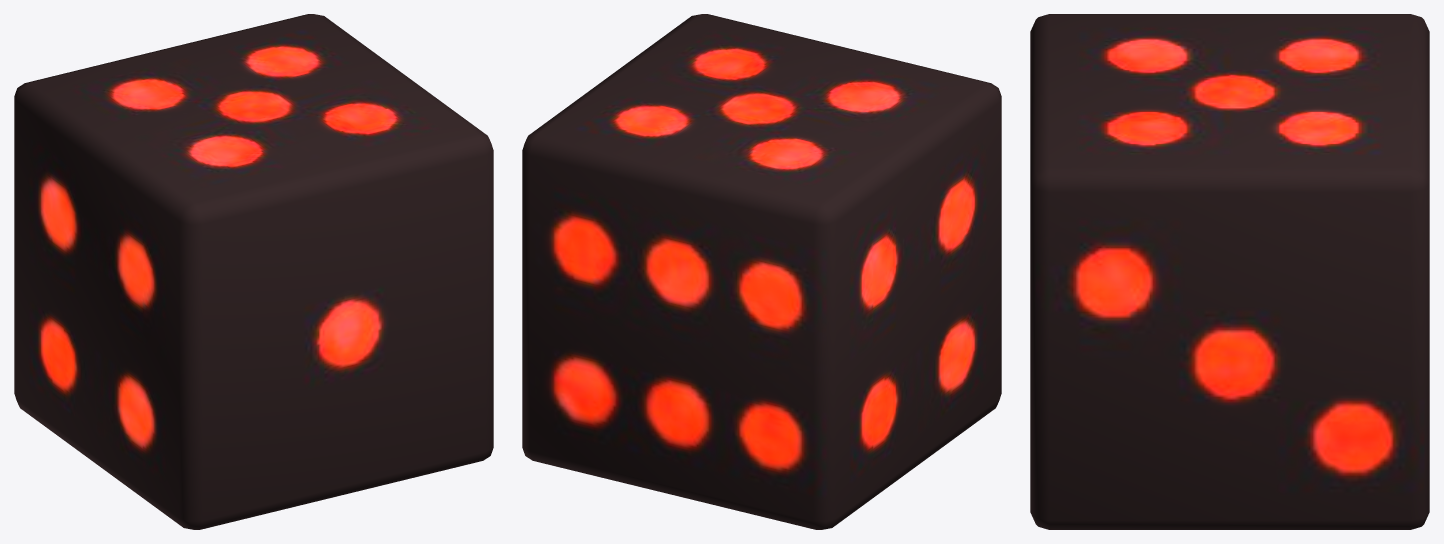
The picture shows the model from 3 angles, left to right: view 1: azimuth 30°, elevation 25°; view 2: azimuth 150°, elevation 25°; view 3: azimuth 270°, elevation 25°; orthographic projection. The views are drawn at different scales.
Parts seen in each view (by area): view 1: 6Yellow; view 2: 6Yellow; view 3: 6Yellow.
Boxes of the visible parts, bbox=[...] form: 6Yellow: bbox=[14, 14, 493, 529]; 6Yellow: bbox=[522, 14, 1001, 529]; 6Yellow: bbox=[1030, 14, 1429, 529].
Size of the model in its own units: 1.17 by 1.17 by 1.17.
Materials: 1 (1 with a texture image).
